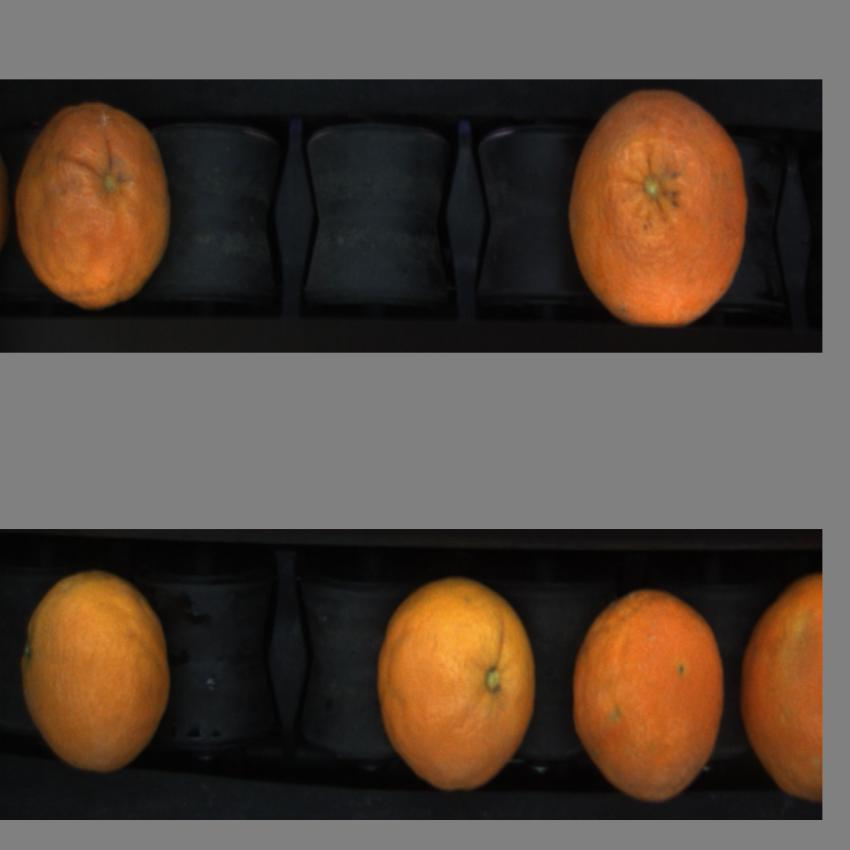Buen estado: (373, 568, 541, 797), (738, 577, 820, 788)
Mal estado: (572, 96, 748, 322), (576, 576, 727, 808), (13, 94, 172, 308), (16, 568, 178, 772)
